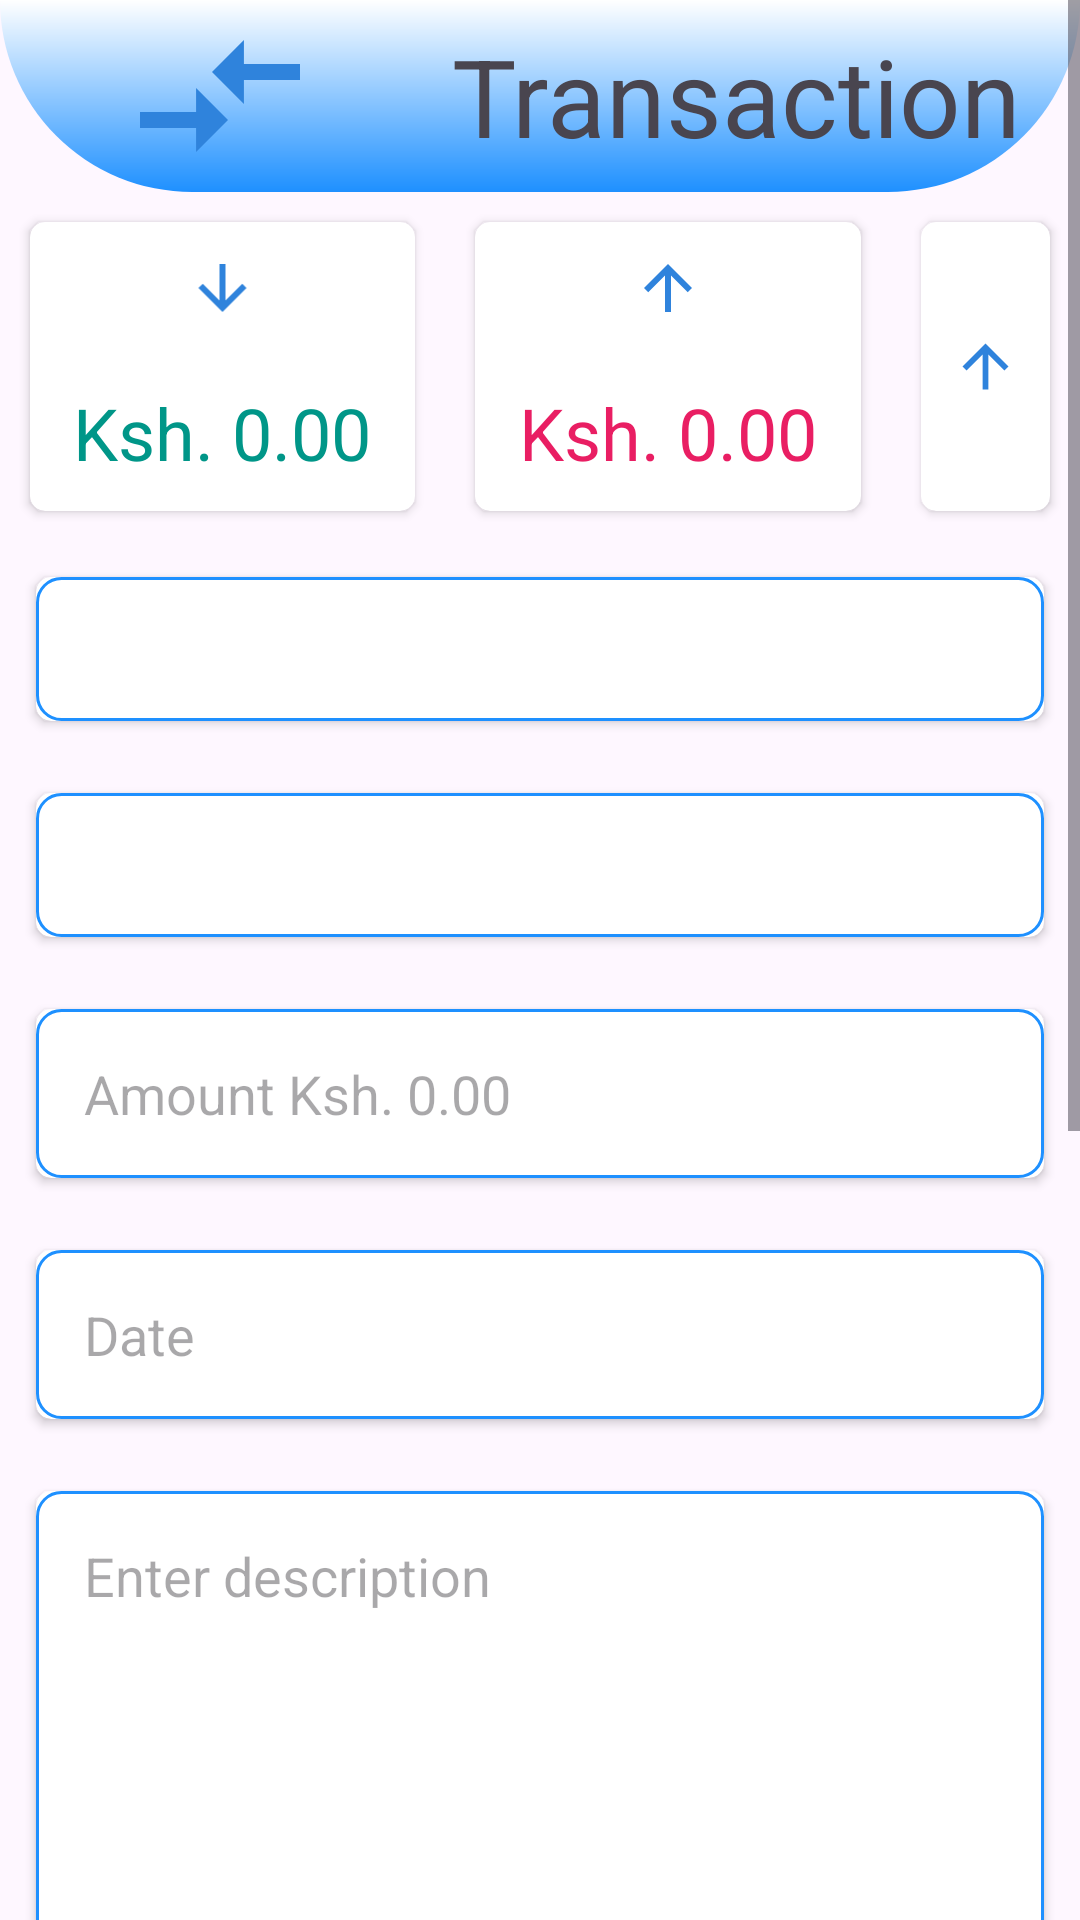

Named icons in this screenshot (1080px×1920px) and their centers, (x,y):
inarrow: (222,288)
outarrow: (668,288), (985,366)
